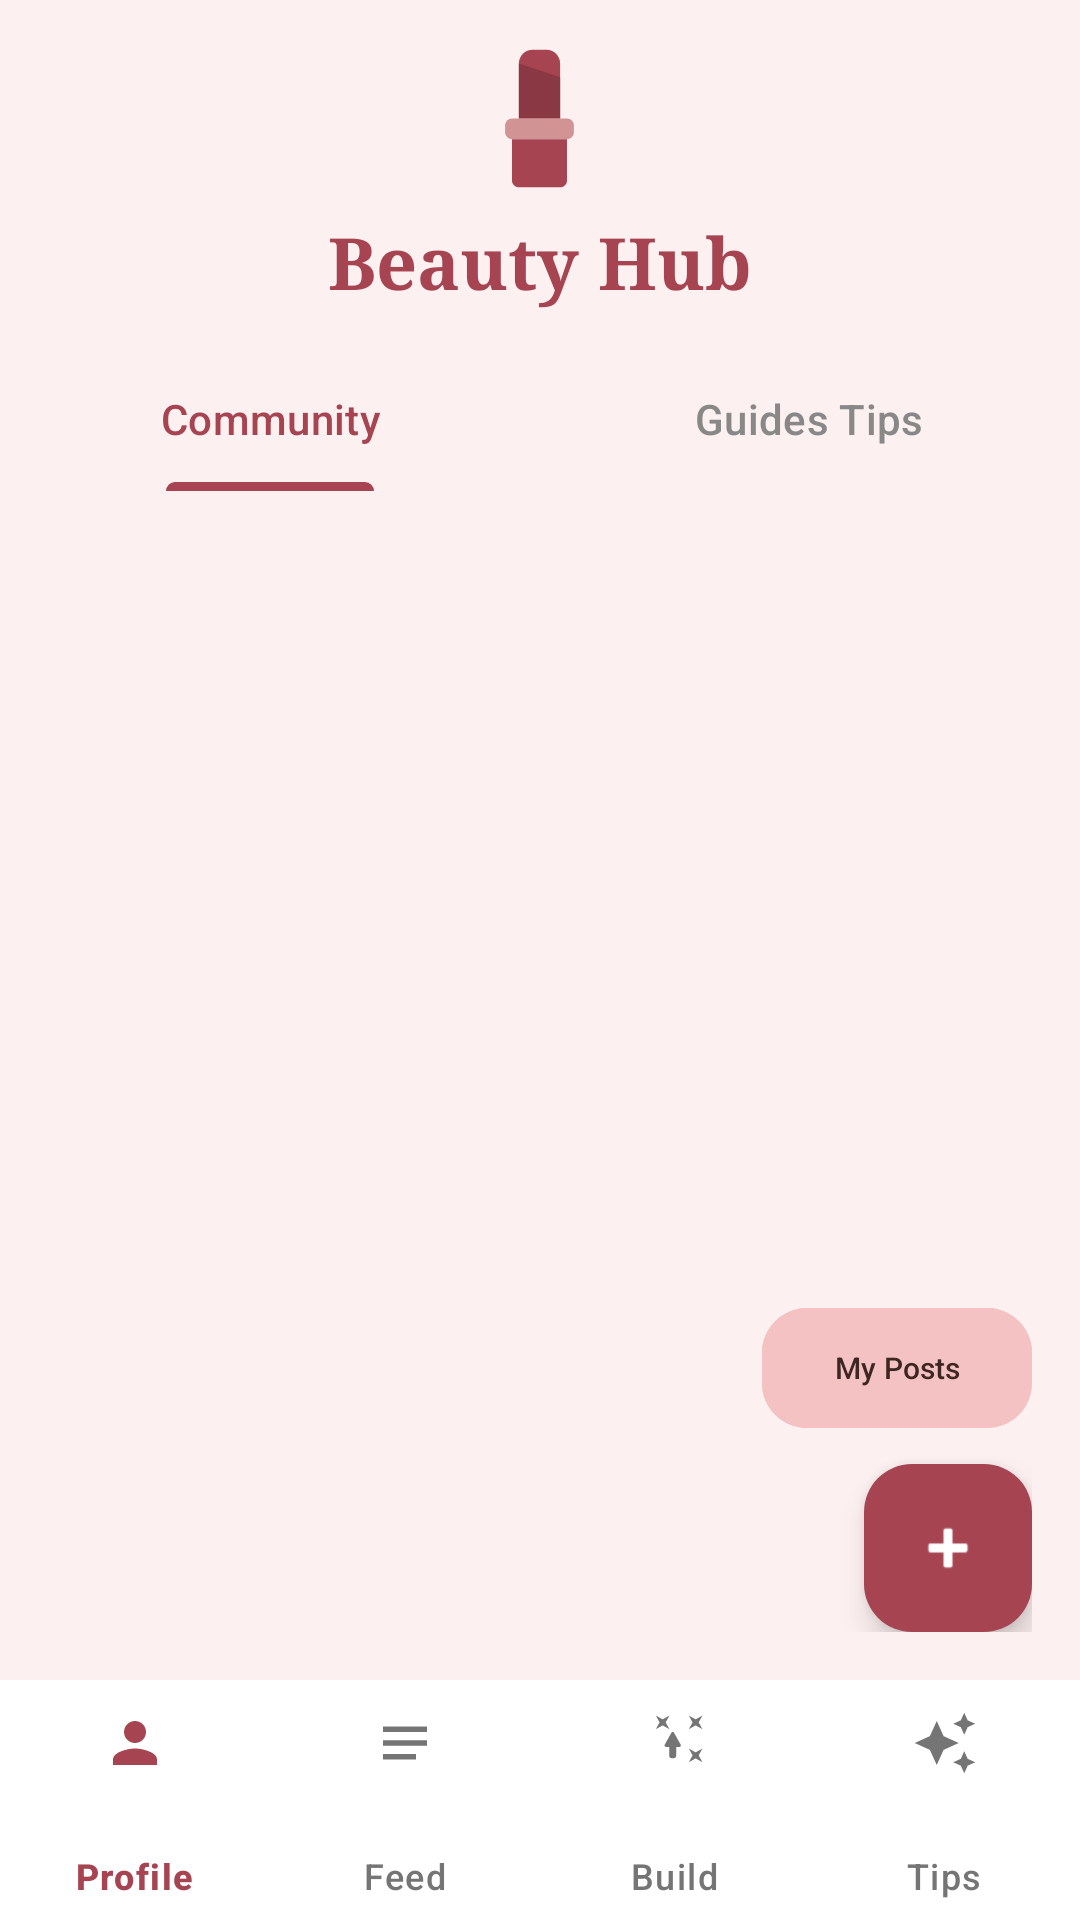

Screen size 1080 x 1920. Icon name, then its center in pixels as point (x, y):
add: point (948, 1548)
lipstick: point (539, 118)
